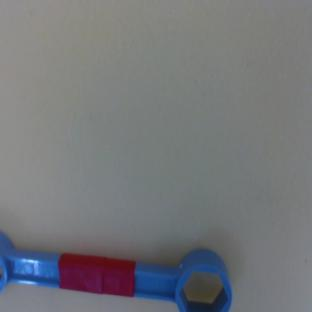part_3_good: (0, 231, 236, 312)
